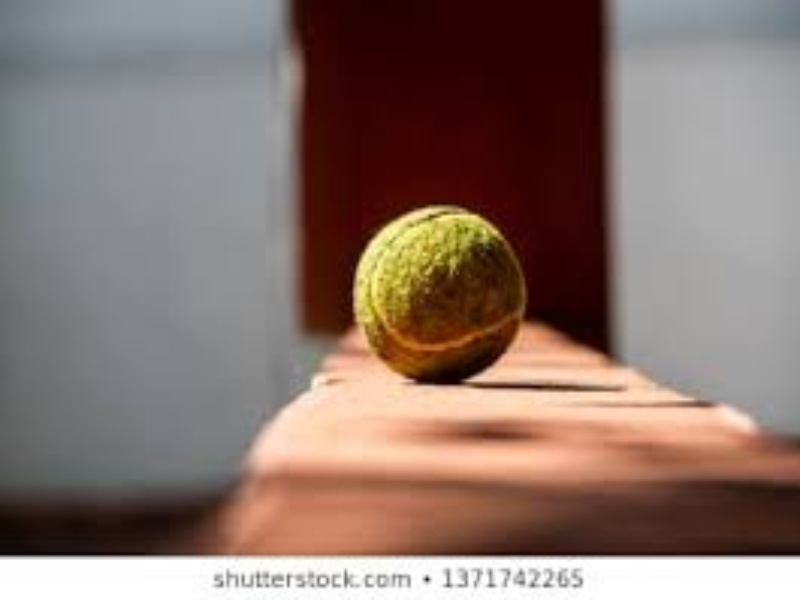tennis ball: (350, 164, 525, 404)
